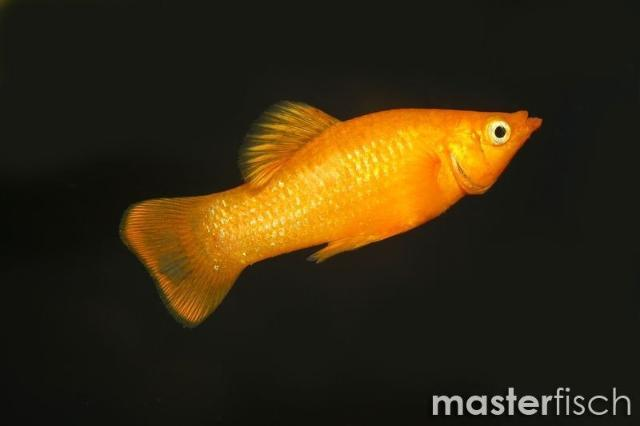Mulut: (472, 86, 578, 176)
Sirip Anal: (296, 224, 386, 292)
Sirip Dada: (391, 136, 454, 236)
Sirip Ekor: (100, 178, 248, 349)
Sirip Punggung: (226, 90, 360, 196)
